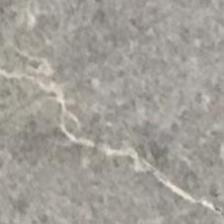Crack: (59, 116, 222, 214)
Non_Crack: (65, 7, 218, 113)
